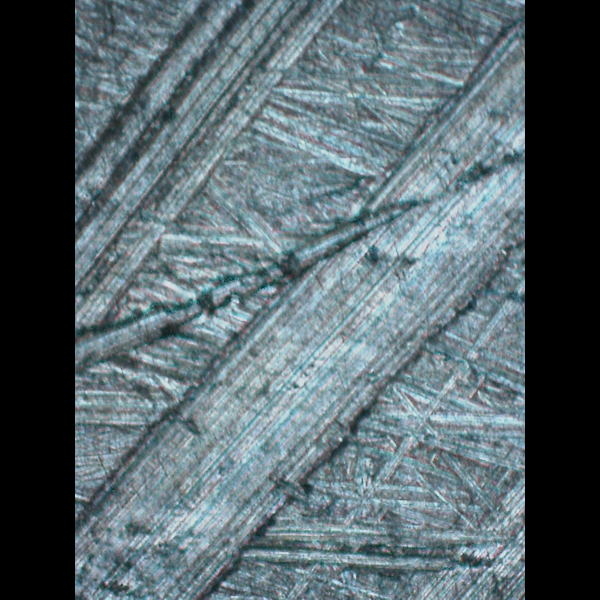d: (78, 4, 524, 600)
